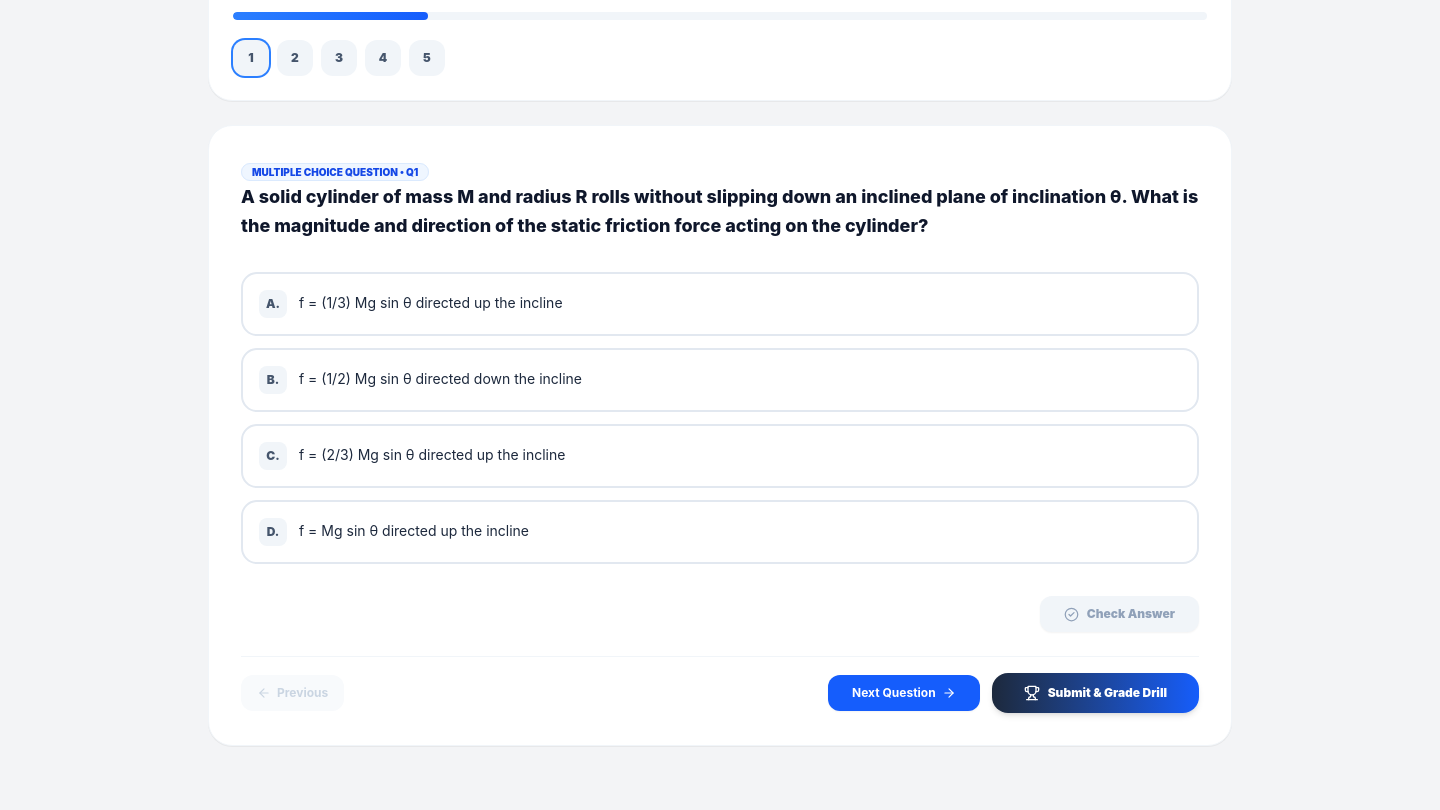
Test: PracticeSession Page (F21 & Mode Handling) › Practice / Drill Quiz Mode (R1 & R3) › navigates across questions using Next Question button and palette buttons
(page scrolled)
Click the button "Next Question": [904, 693] box [828,675,980,711]
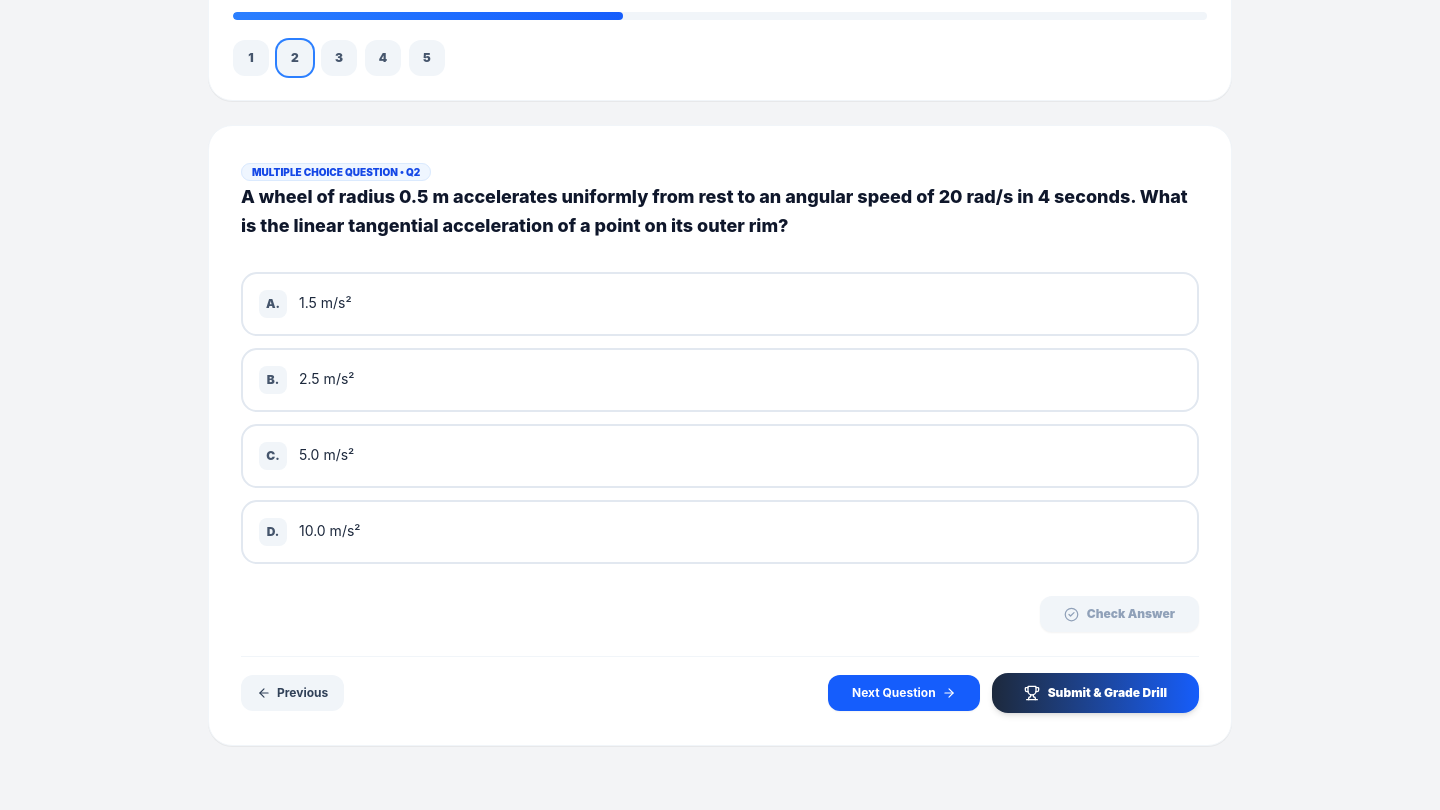
Note: Click palette button 4
Click the button "4": [383, 58] box [365,40,401,76]
(page scrolled)
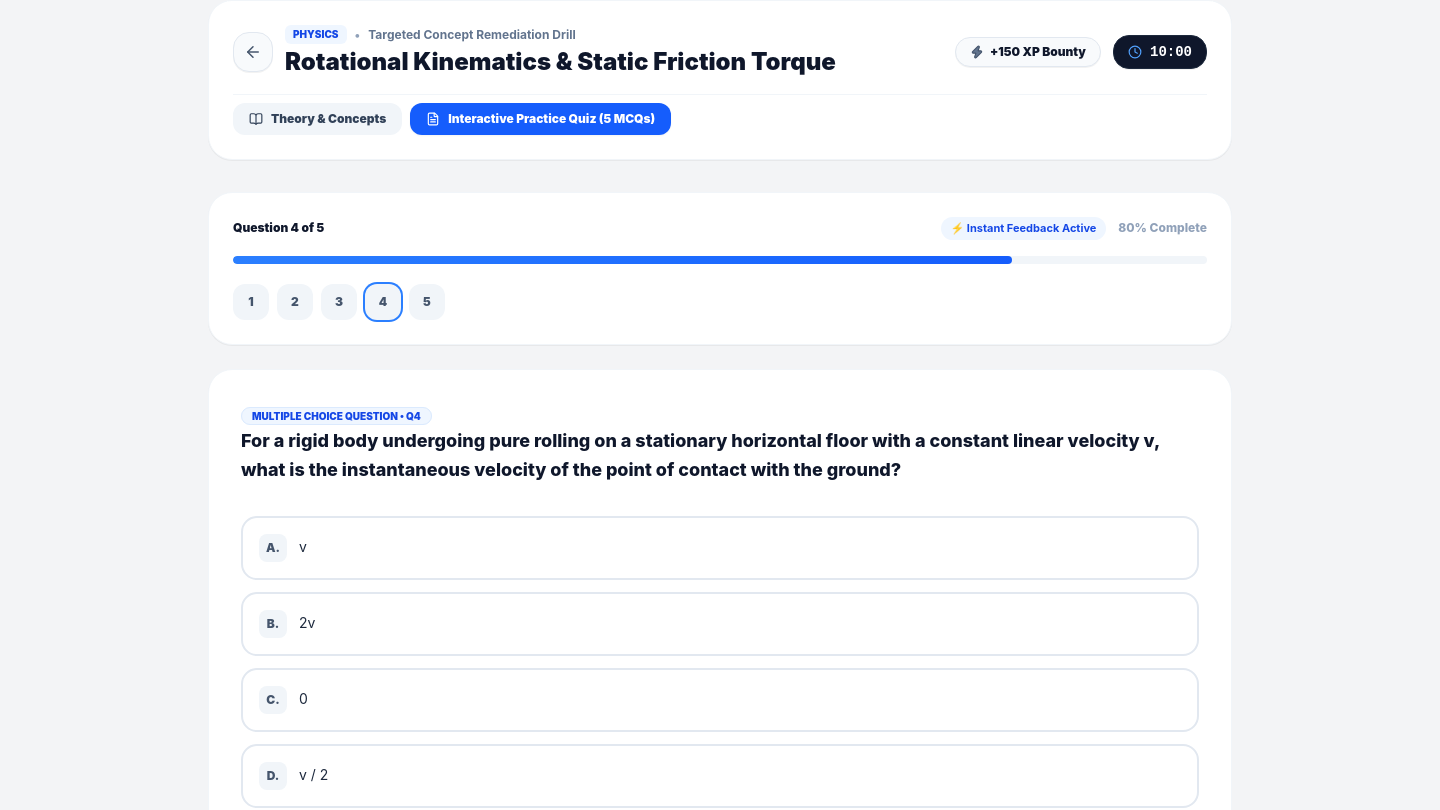
Result: the text "Question 4 of 5" is shown at [233,220,324,236]
